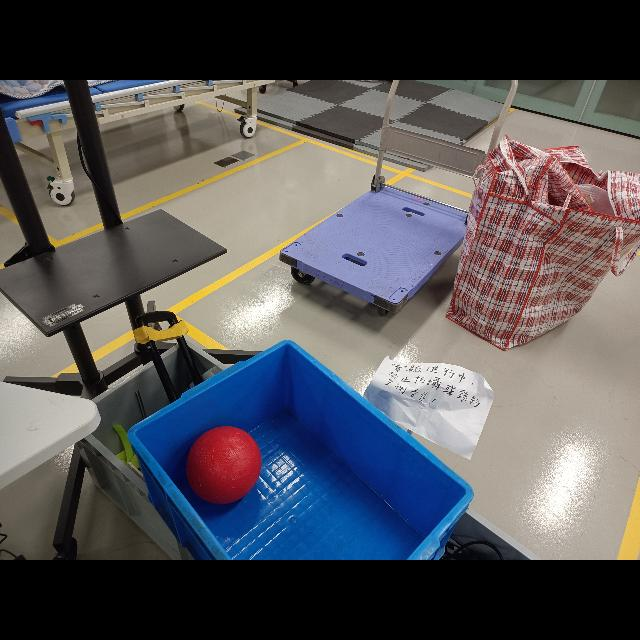R: (186, 426, 260, 504)
